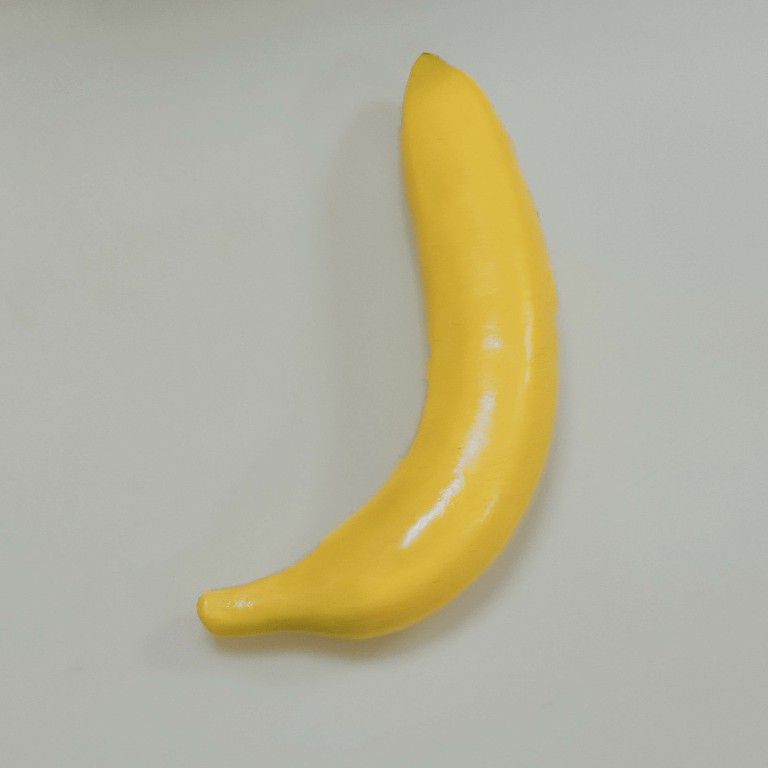fruit_banana: (190, 44, 568, 650)
